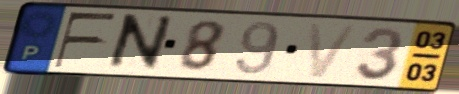3: (354, 25, 407, 82)
8: (177, 18, 227, 73)
9: (231, 20, 281, 77)
F: (51, 11, 120, 70)
N: (102, 12, 177, 73)
V: (306, 21, 361, 80)
